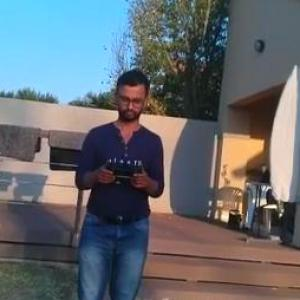follow: (66, 65, 171, 299)
